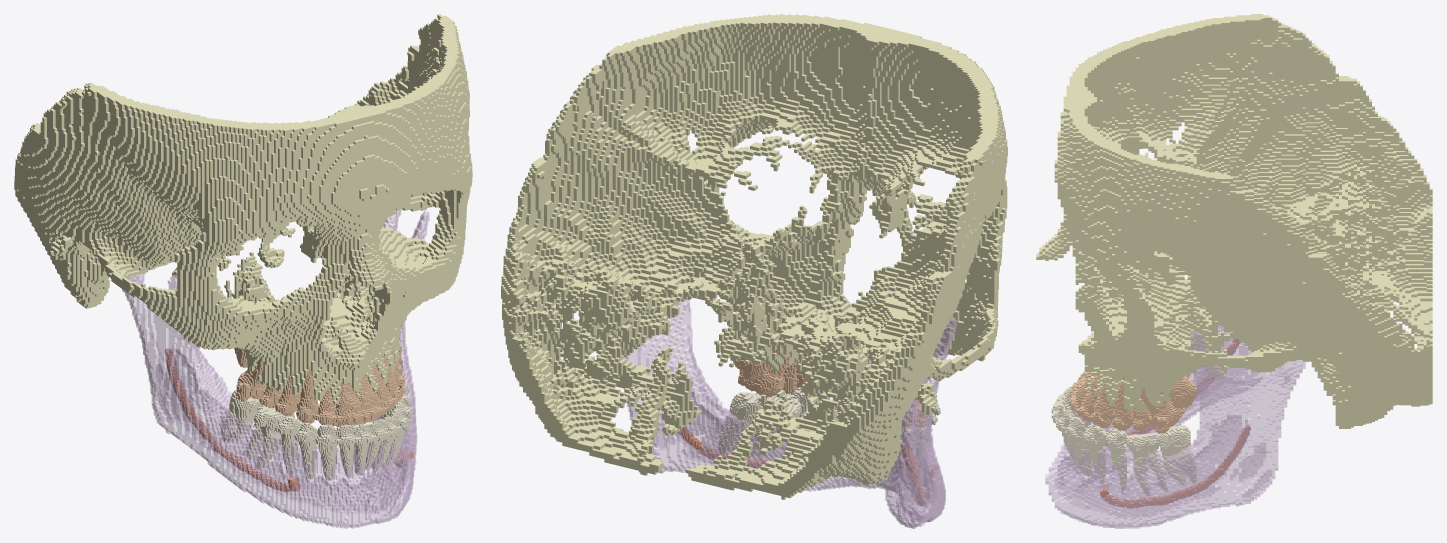
File: PreDentalSurgery_scene.glb
3 views of the same model, side by side, from view 1: azimuth 30°, elevation 25°; view 2: azimuth 150°, elevation 25°; view 3: azimuth 270°, elevation 25° (orthographic). The views are drawn at different scales.
Parts seen in each view (by area): view 1: maxilla_upper_skull, mandible, lower_teeth, upper_teeth, mandibular_canal; view 2: maxilla_upper_skull, mandible, lower_teeth, upper_teeth, mandibular_canal; view 3: maxilla_upper_skull, mandible, lower_teeth, upper_teeth, mandibular_canal.
Part boxes in pixels (box(x1,y1,x2,y2)): maxilla_upper_skull: box(14, 14, 472, 404); mandible: box(122, 209, 429, 528); lower_teeth: box(220, 381, 412, 480); upper_teeth: box(234, 337, 404, 427); mandibular_canal: box(165, 348, 413, 491); maxilla_upper_skull: box(501, 14, 1007, 499); mandible: box(623, 281, 957, 528); lower_teeth: box(717, 387, 940, 486); upper_teeth: box(733, 345, 926, 427); mandibular_canal: box(677, 426, 939, 505); maxilla_upper_skull: box(1036, 14, 1432, 428); mandible: box(1045, 216, 1307, 528); lower_teeth: box(1051, 376, 1196, 495); upper_teeth: box(1069, 372, 1196, 433); mandibular_canal: box(1100, 338, 1250, 508).
Bounding box in the file's own units: 143 × 147 × 131.
